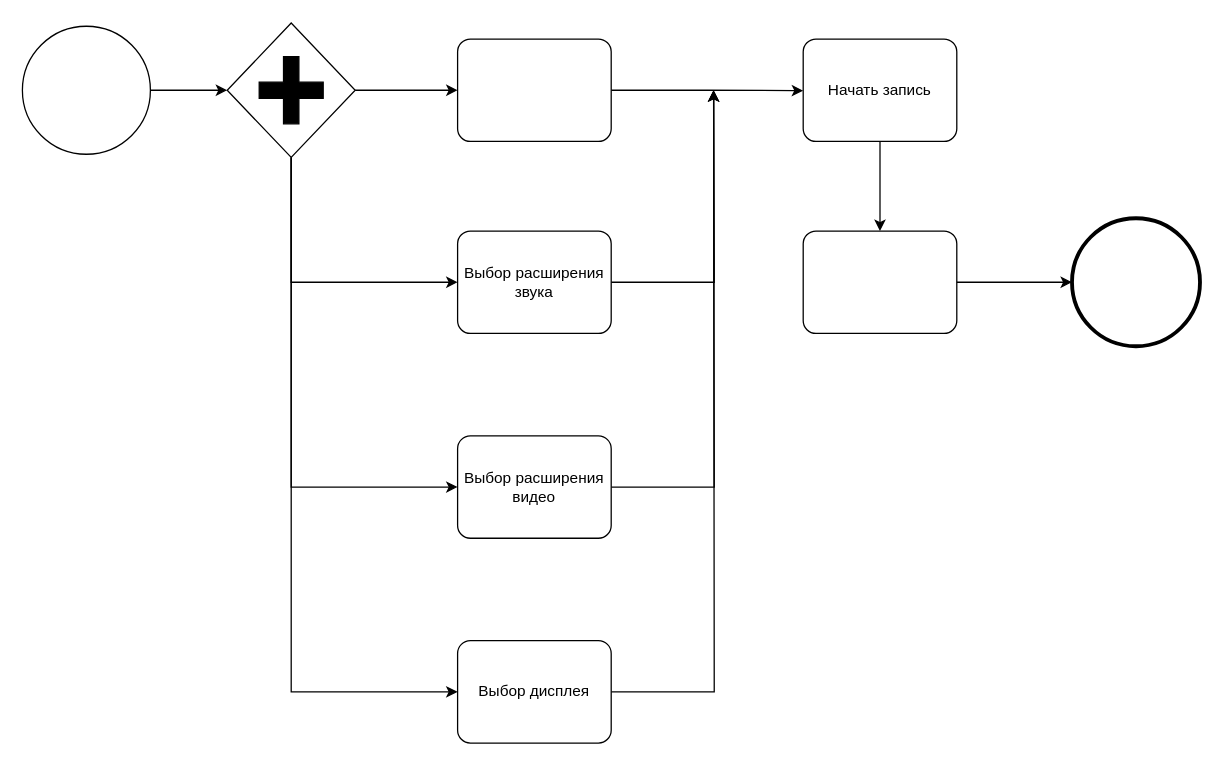
Some shapes in this 1222 by 765 pixel diagram are drawn without their labels. The centre of each missing label's shape, as x and y in pixels:
Выбор пути: the point at 533,89
Остановить запись: the point at 879,281
